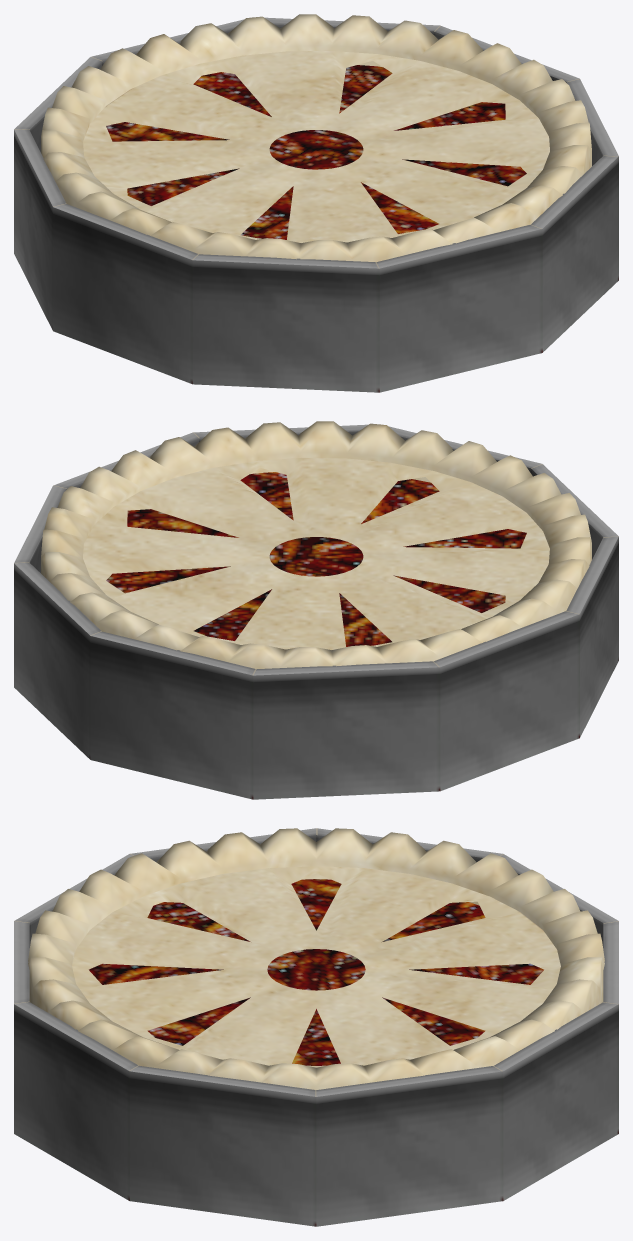
File: VFX_BakingPanWholePieDiamond.fbx
3 renders of one model, top to bottom at view 1: azimuth 30°, elevation 25°; view 2: azimuth 150°, elevation 25°; view 3: azimuth 270°, elevation 25°, orthographic. The views are drawn at different scales.
Parts seen in each view (by area): view 1: Pie Whole Diamonds Baking Pan; view 2: Pie Whole Diamonds Baking Pan; view 3: Pie Whole Diamonds Baking Pan.
Boxes of the visible parts, x1=… form: Pie Whole Diamonds Baking Pan: x1=14, y1=14, x2=618, y2=392; Pie Whole Diamonds Baking Pan: x1=14, y1=421, x2=618, y2=799; Pie Whole Diamonds Baking Pan: x1=14, y1=828, x2=618, y2=1226.
Bounding box in the file's own units: 0.2377 × 0.0591 × 0.2261.
